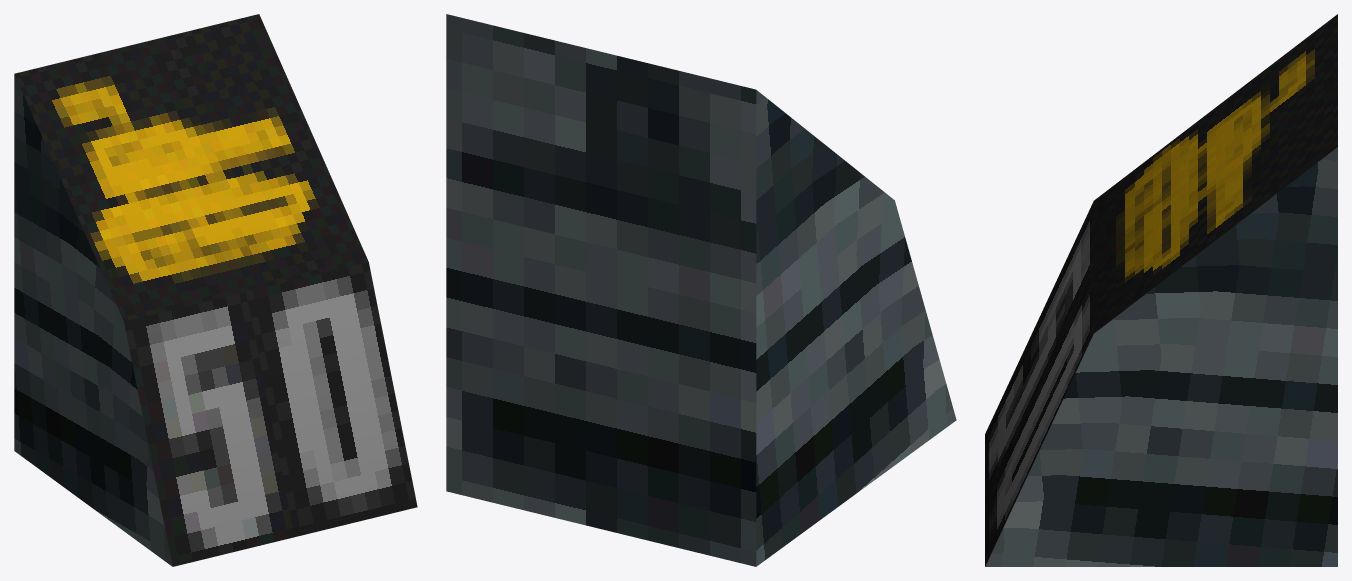
3 views of the same model, side by side, from view 1: azimuth 30°, elevation 25°; view 2: azimuth 150°, elevation 25°; view 3: azimuth 270°, elevation 25° (orthographic). The views are drawn at different scales.
Parts seen in each view (by area): view 1: Conft_obj_035; view 2: Conft_obj_035; view 3: Conft_obj_035.
Part boxes in pixels (x1,y1,x2,y2): Conft_obj_035: (14, 14, 417, 566); Conft_obj_035: (446, 14, 956, 566); Conft_obj_035: (985, 14, 1337, 566).
Bounding box in the file's own units: 0.5996 × 0.8828 × 0.6719.
Materials: 1 (1 with a texture image).
